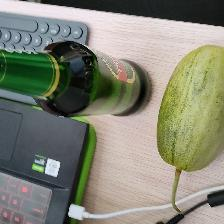gua: (161, 41, 215, 188)
